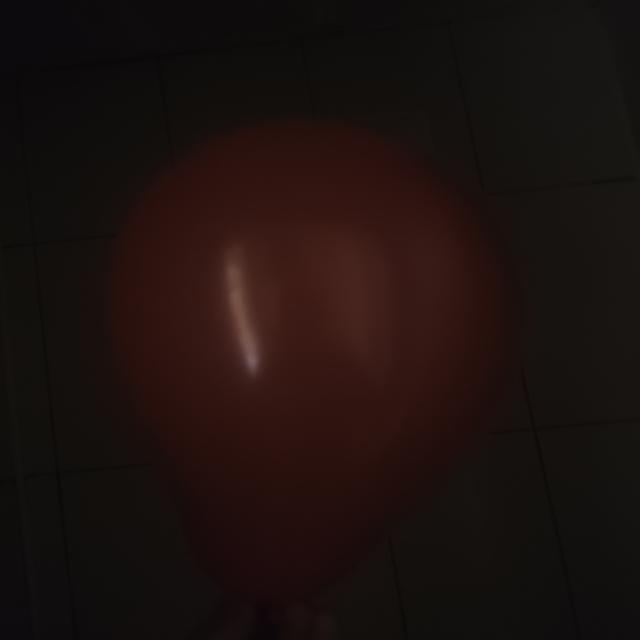balloon: (110, 121, 517, 605)
